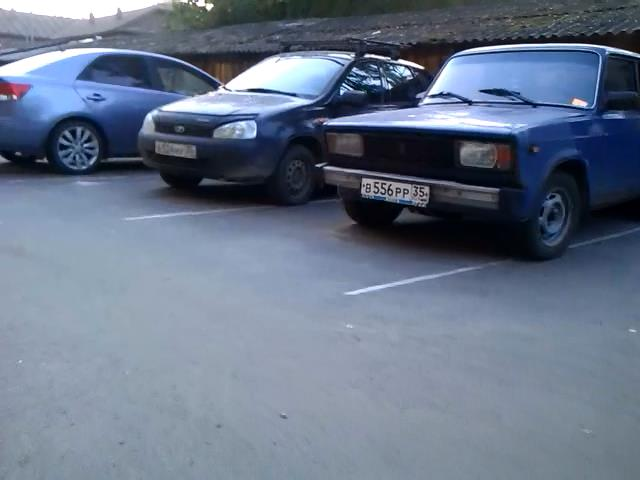car license plate: (358, 176, 431, 209), (152, 138, 197, 161)
